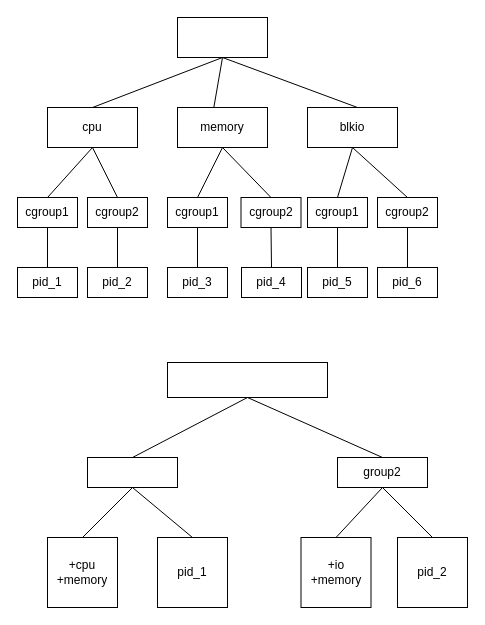
Image size: 485x625. Some labels were removed from this diagram. Each missing label, with the centre of its shape:
"/sys/fs/cgroup" goes at (x=222, y=37).
"/sys/fs/cgroup/unified" goes at (x=247, y=380).
"group1" goes at (x=132, y=472).
